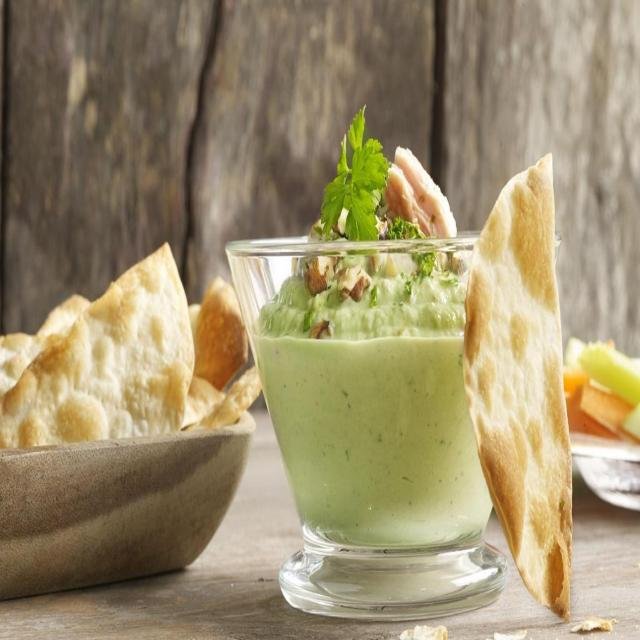aguacate: (260, 188, 472, 352)
